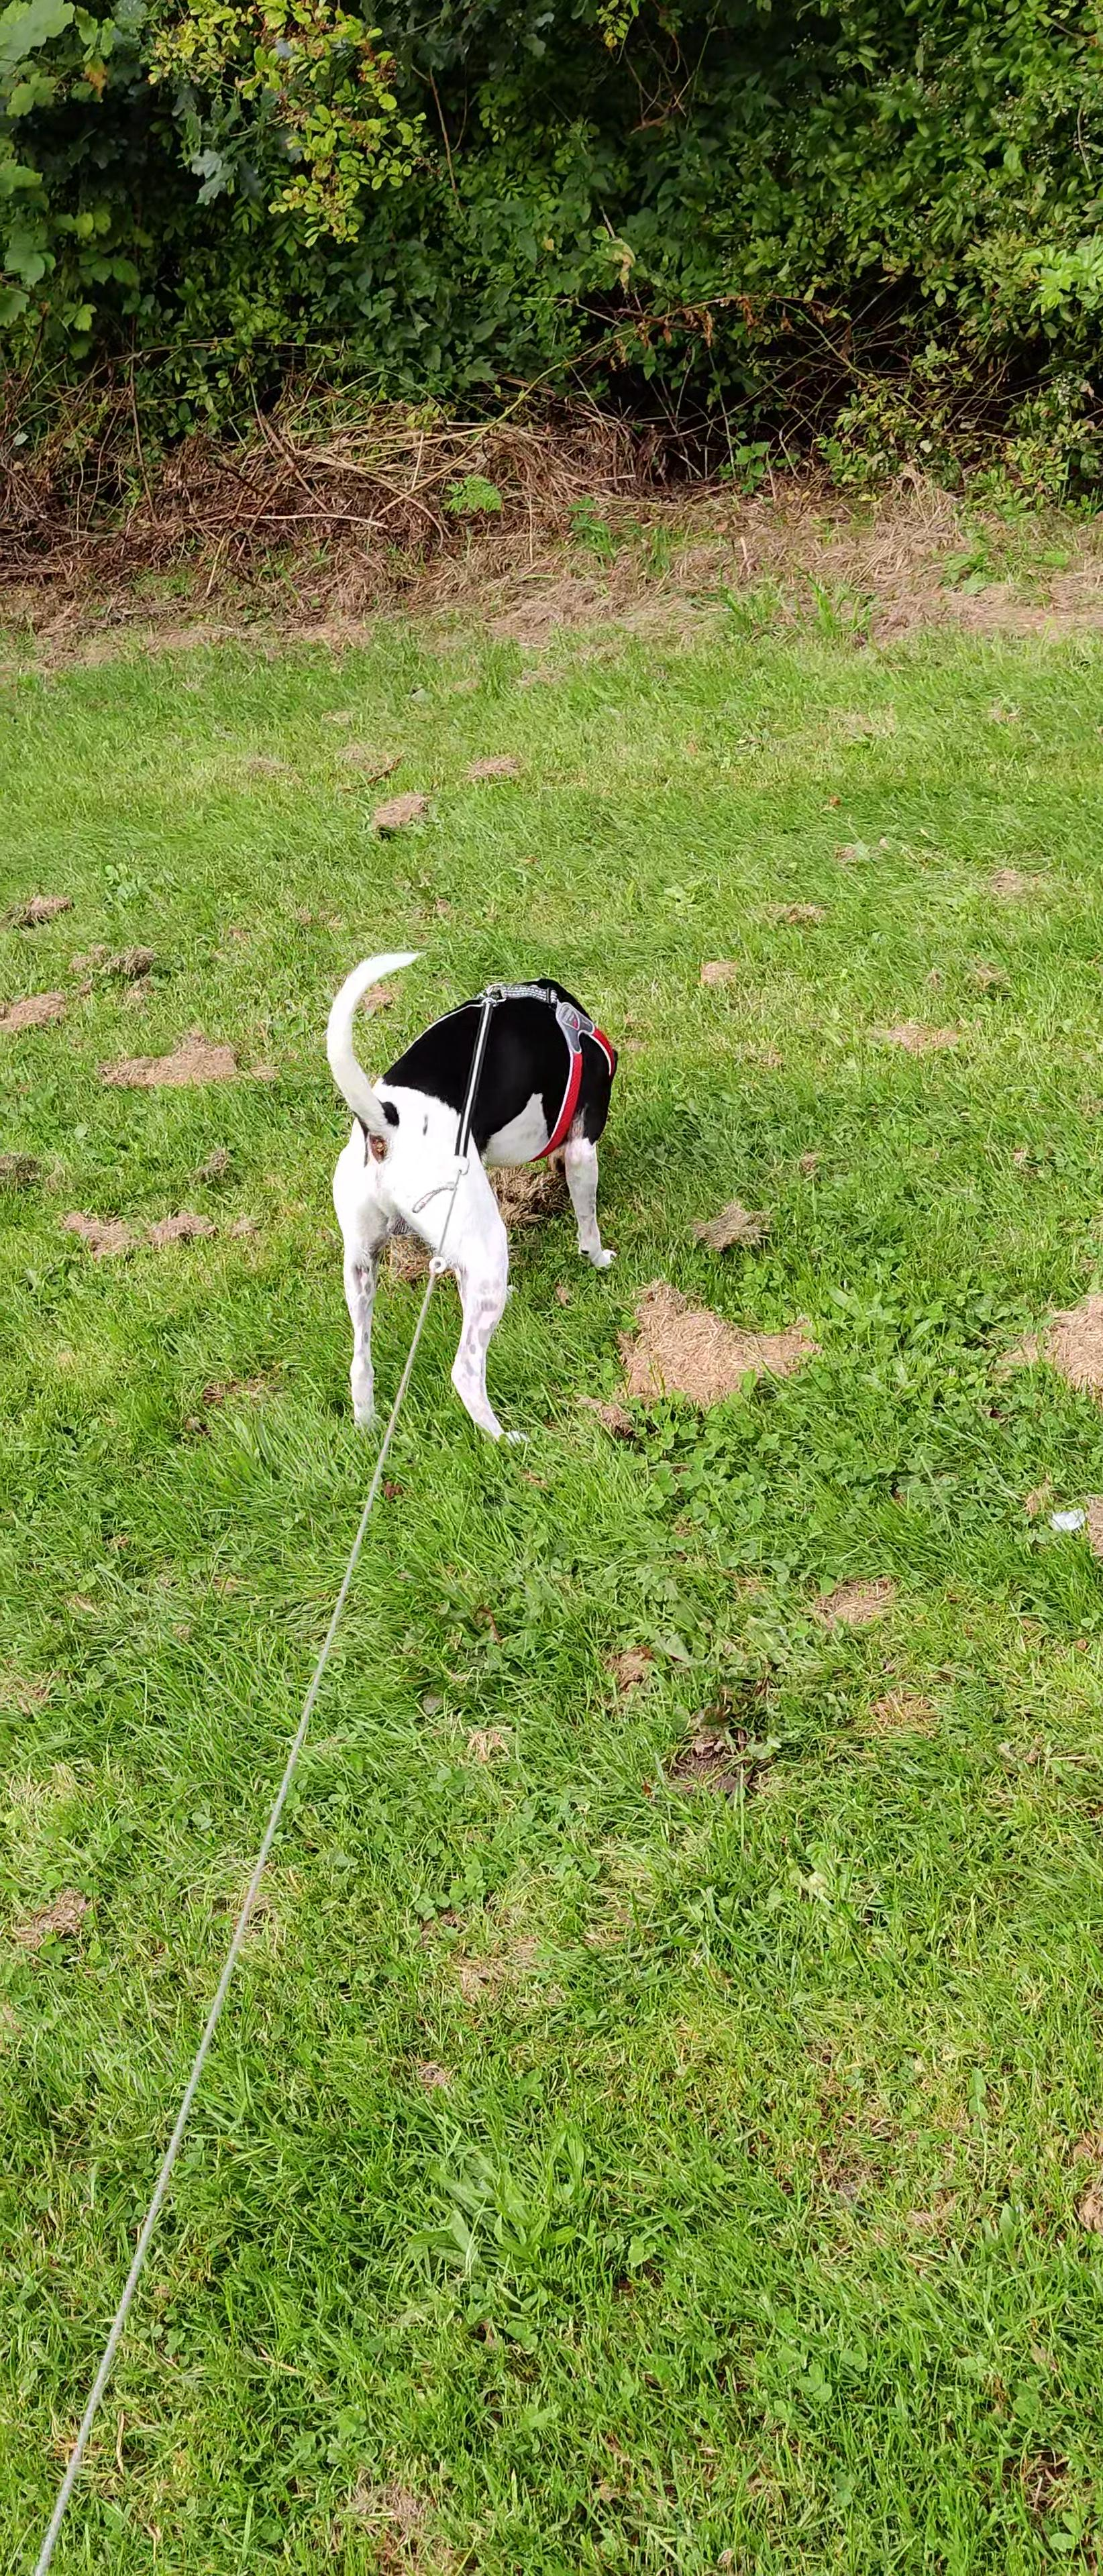Dog: (314, 945, 631, 1449)
